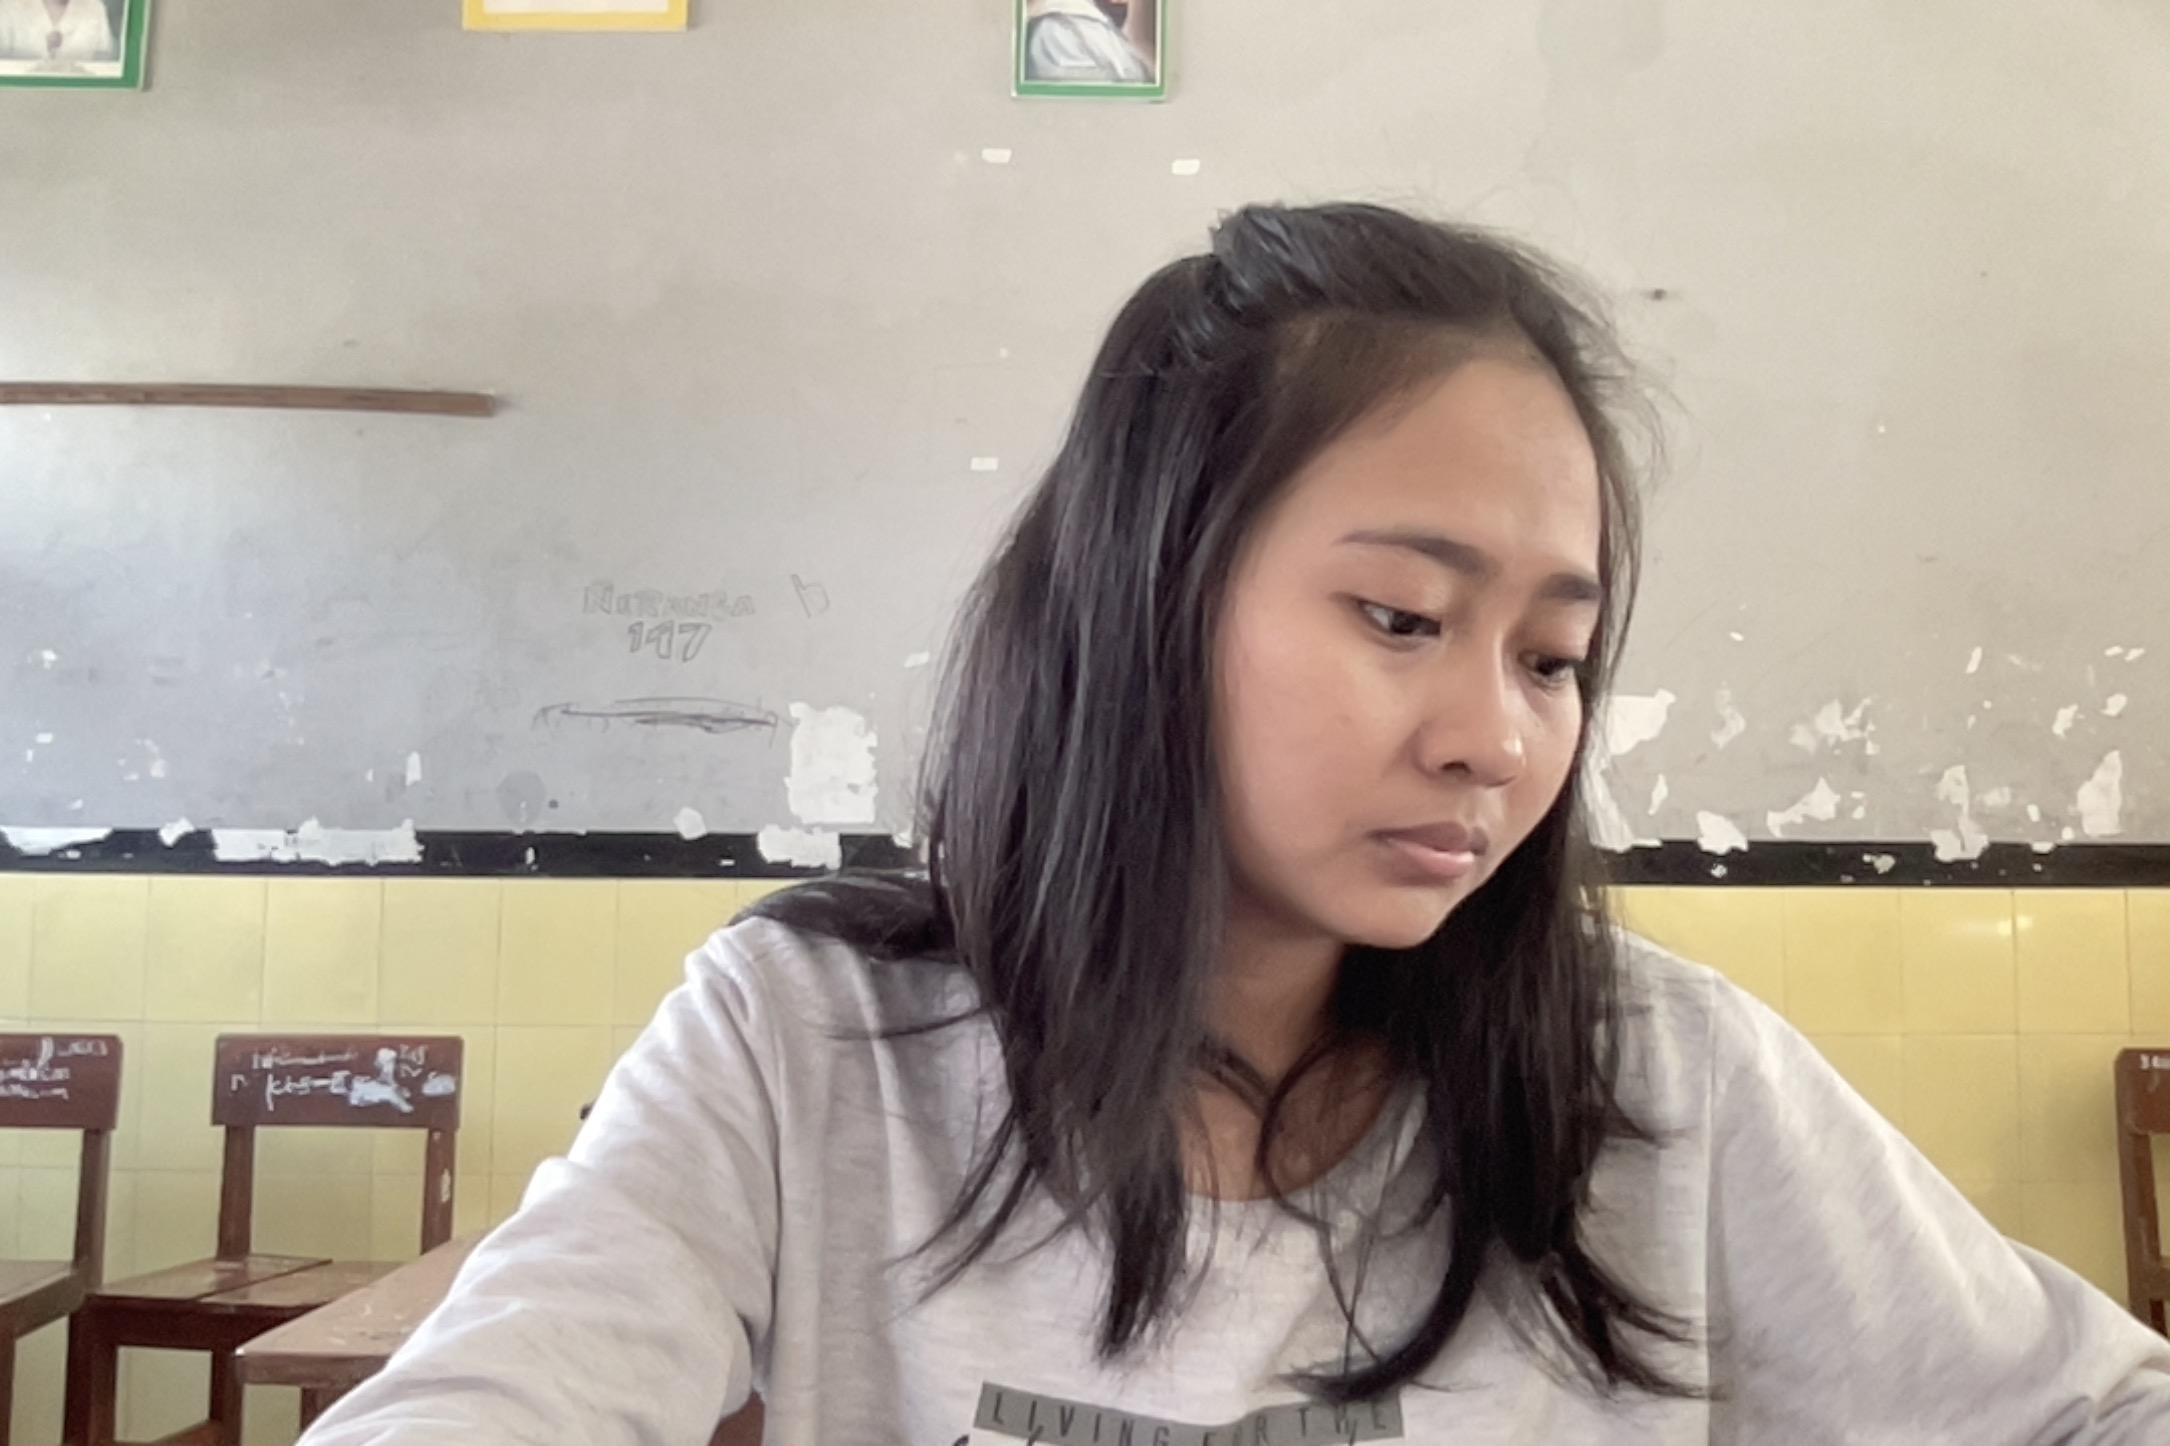cheating: (261, 134, 2170, 1446)
